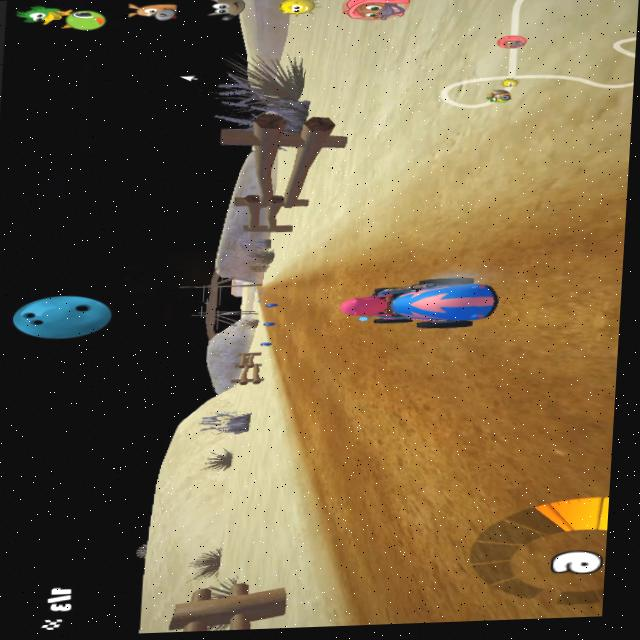enemy_kart: (330, 267, 520, 335)
nitro: (258, 298, 279, 313), (260, 340, 276, 351), (257, 319, 277, 326)
track: (500, 198, 622, 620), (300, 329, 514, 470), (346, 464, 507, 626), (303, 468, 352, 566), (274, 279, 315, 390), (294, 271, 328, 339), (259, 285, 278, 297)
